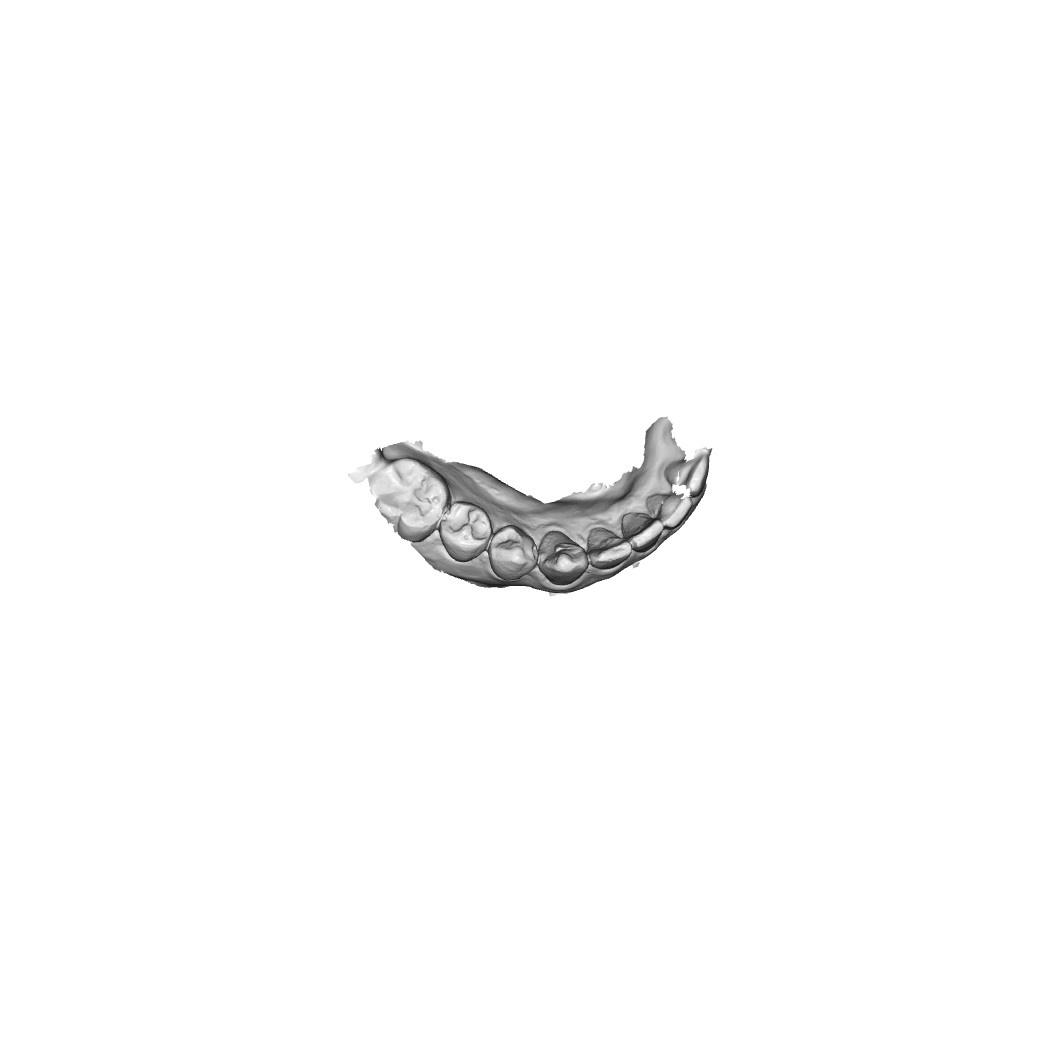canine: (539, 527, 591, 586)
incisor: (643, 489, 696, 531), (586, 522, 631, 571), (618, 510, 665, 553)
molar: (368, 457, 453, 544)
premolar: (436, 500, 492, 563), (486, 523, 539, 583)
